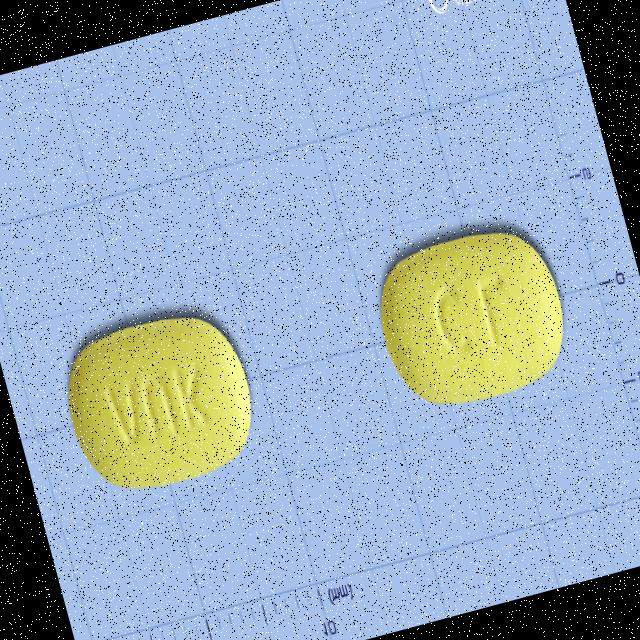Auscle - 500mg: (46, 291, 272, 512), (361, 208, 585, 425)
